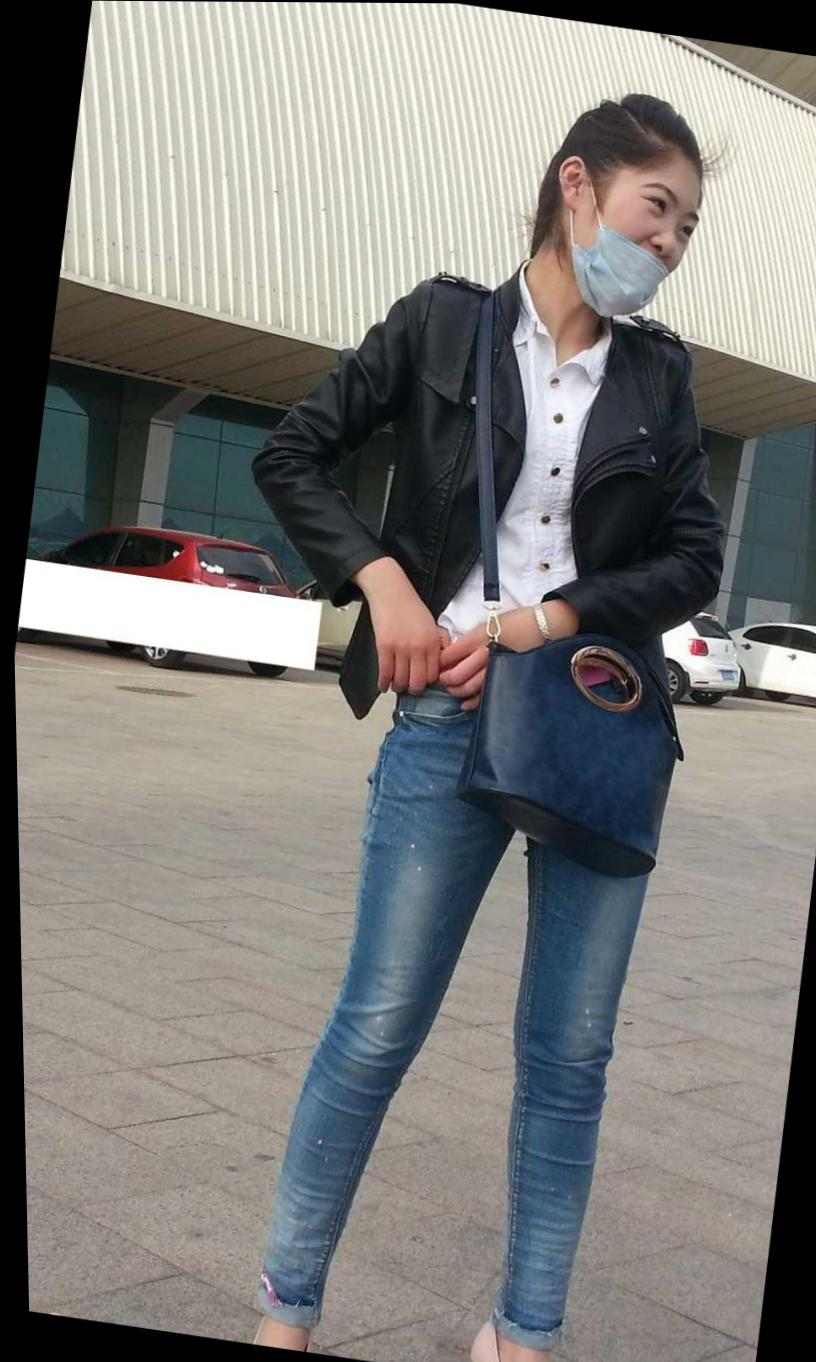WRONG: (552, 163, 698, 324)
